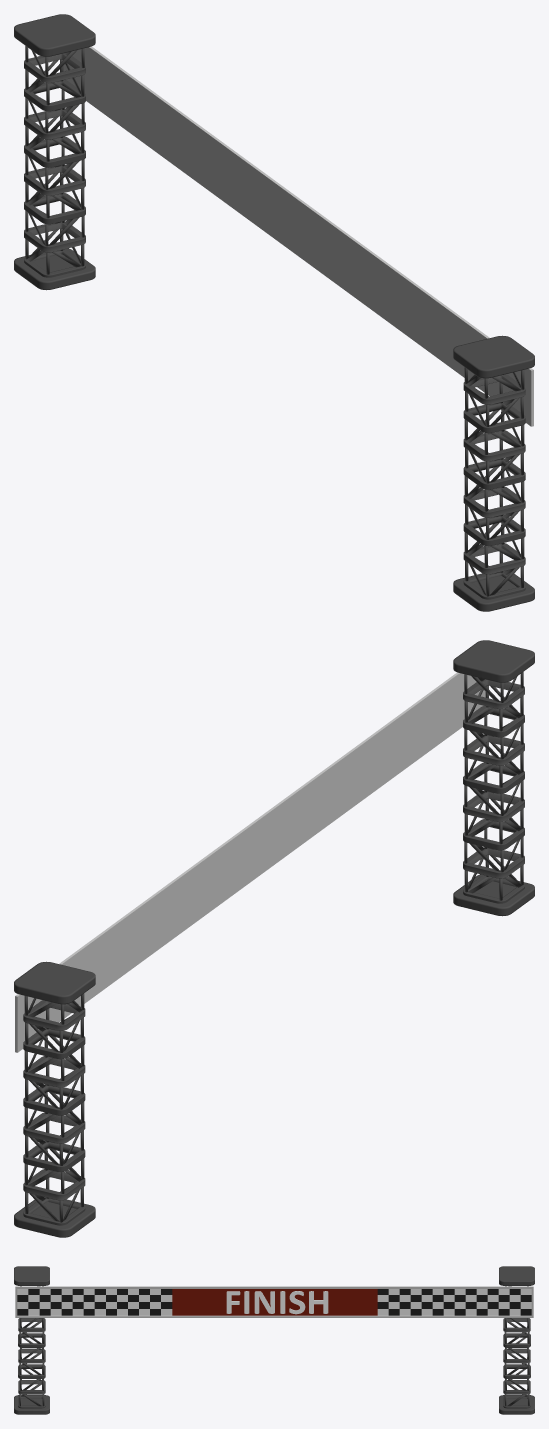
File: llegada.obj
The picture shows the model from 3 angles, top to bottom: view 1: azimuth 30°, elevation 25°; view 2: azimuth 150°, elevation 25°; view 3: azimuth 270°, elevation 25°; orthographic projection. The views are drawn at different scales.
Visible parts, largest first — view 1: Board.001_CP_Black_0, pole.001_Metal_0, matel_tab_Metal_0, matel_tab_bottom_Metal_0; view 2: Board.001_CP_Black_0, pole.001_Metal_0, matel_tab_Metal_0, matel_tab_bottom_Metal_0; view 3: Board.001_CP_Black_0, pole.001_Metal_0, matel_tab_Metal_0, Finish__0, matel_tab_bottom_Metal_0.
Part boxes in pixels (box(x1,y1,x2,y2)): Board.001_CP_Black_0: box(63, 46, 533, 426); pole.001_Metal_0: box(24, 46, 525, 599); matel_tab_Metal_0: box(14, 14, 534, 378); matel_tab_bottom_Metal_0: box(14, 248, 534, 611); Board.001_CP_Black_0: box(15, 672, 485, 1052); pole.001_Metal_0: box(23, 672, 524, 1225); matel_tab_Metal_0: box(14, 640, 534, 1004); matel_tab_bottom_Metal_0: box(14, 874, 534, 1237); Board.001_CP_Black_0: box(15, 1286, 533, 1317); pole.001_Metal_0: box(18, 1286, 530, 1408); matel_tab_Metal_0: box(14, 1266, 534, 1285); Finish__0: box(226, 1291, 328, 1314); matel_tab_bottom_Metal_0: box(14, 1395, 534, 1414).
Size of the model in its own units: 59.43 by 242 by 858.
Materials: 3 (1 with a texture image).
